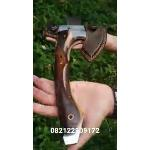Kapak: (40, 10, 112, 150)
